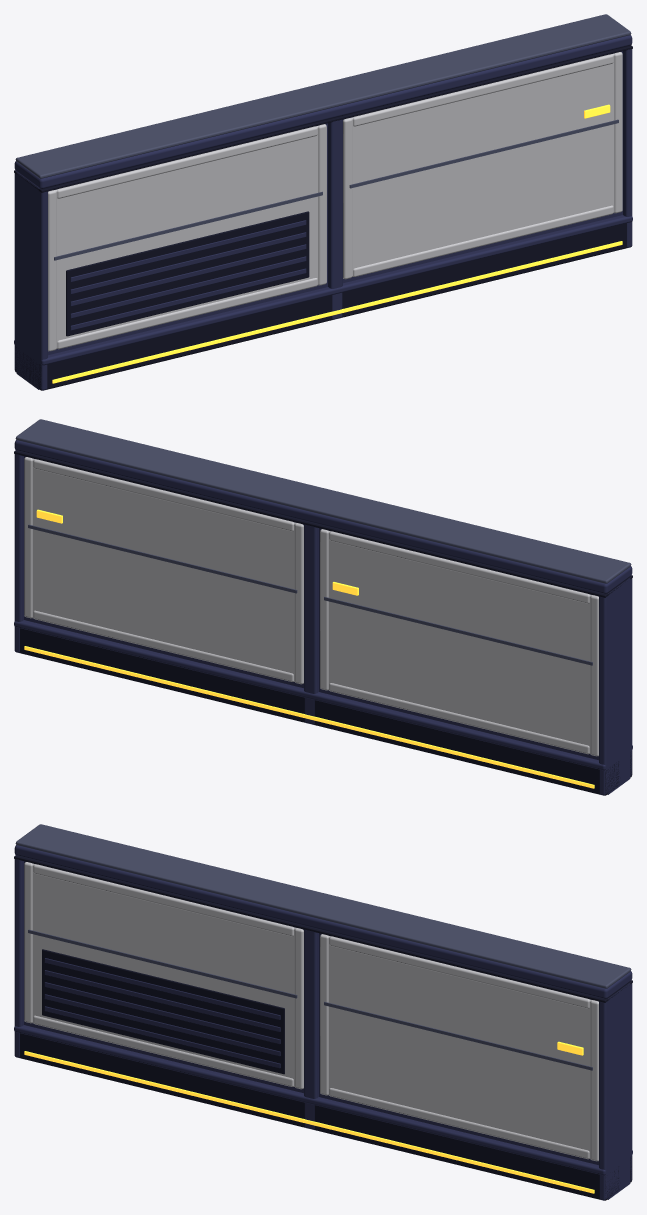
File: int.halfwall.l3.25.glb
3 renders of one model, top to bottom at view 1: azimuth 30°, elevation 25°; view 2: azimuth 150°, elevation 25°; view 3: azimuth 330°, elevation 25°, orthographic.
Visible parts, largest first — view 1: int.halfwall.l3.25; view 2: int.halfwall.l3.25; view 3: int.halfwall.l3.25.
Part boxes in pixels (x1=…): int.halfwall.l3.25: x1=14, y1=14, x2=632, y2=390; int.halfwall.l3.25: x1=14, y1=419, x2=632, y2=795; int.halfwall.l3.25: x1=14, y1=824, x2=632, y2=1200.
Size of the model in its own units: 3.26 by 1.13 by 0.278.
